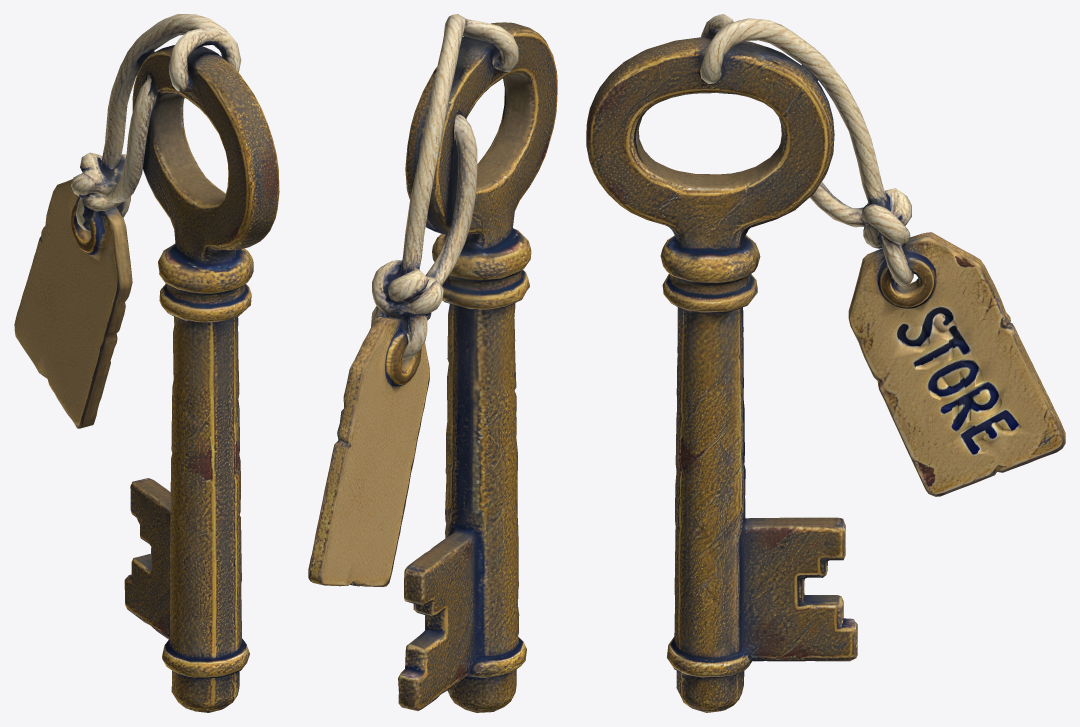
Rendered from KeyStore.fbx.
The picture shows the model from 3 angles, left to right: view 1: azimuth 30°, elevation 25°; view 2: azimuth 150°, elevation 25°; view 3: azimuth 270°, elevation 25°; orthographic projection. The views are drawn at different scales.
Parts seen in each view (by area): view 1: tripo_node_a2f989c7-19ce-41a5-abf7-94c3864215b1; view 2: tripo_node_a2f989c7-19ce-41a5-abf7-94c3864215b1; view 3: tripo_node_a2f989c7-19ce-41a5-abf7-94c3864215b1.
Part boxes in pixels (<box>): tripo_node_a2f989c7-19ce-41a5-abf7-94c3864215b1: <box>14,14,279,712</box>; tripo_node_a2f989c7-19ce-41a5-abf7-94c3864215b1: <box>308,14,557,712</box>; tripo_node_a2f989c7-19ce-41a5-abf7-94c3864215b1: <box>586,14,1065,712</box>.
Bounding box in the file's own units: 13.69 × 100 × 62.72.
Materials: 1 (1 with a texture image).
